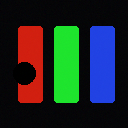2 circle: (13, 62, 35, 84)
